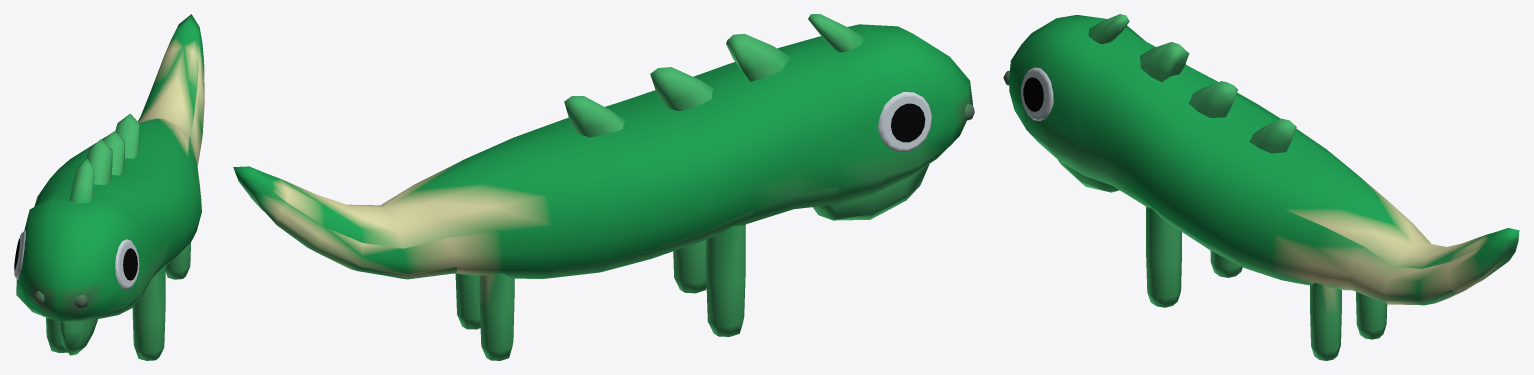
The model's file is Iguana.glb.
3 renders of one model, left to right at view 1: azimuth 30°, elevation 25°; view 2: azimuth 150°, elevation 25°; view 3: azimuth 270°, elevation 25°, orthographic. The views are drawn at different scales.
Parts seen in each view (by area): view 1: 75; view 2: 75; view 3: 75.
Part boxes in pixels (left/top/right/bottom): 75: left=14, top=14, right=204, bottom=360; 75: left=233, top=14, right=974, bottom=360; 75: left=1003, top=14, right=1519, bottom=360.
Bounding box in the file's own units: 0.976 × 0.566 × 1.07.
